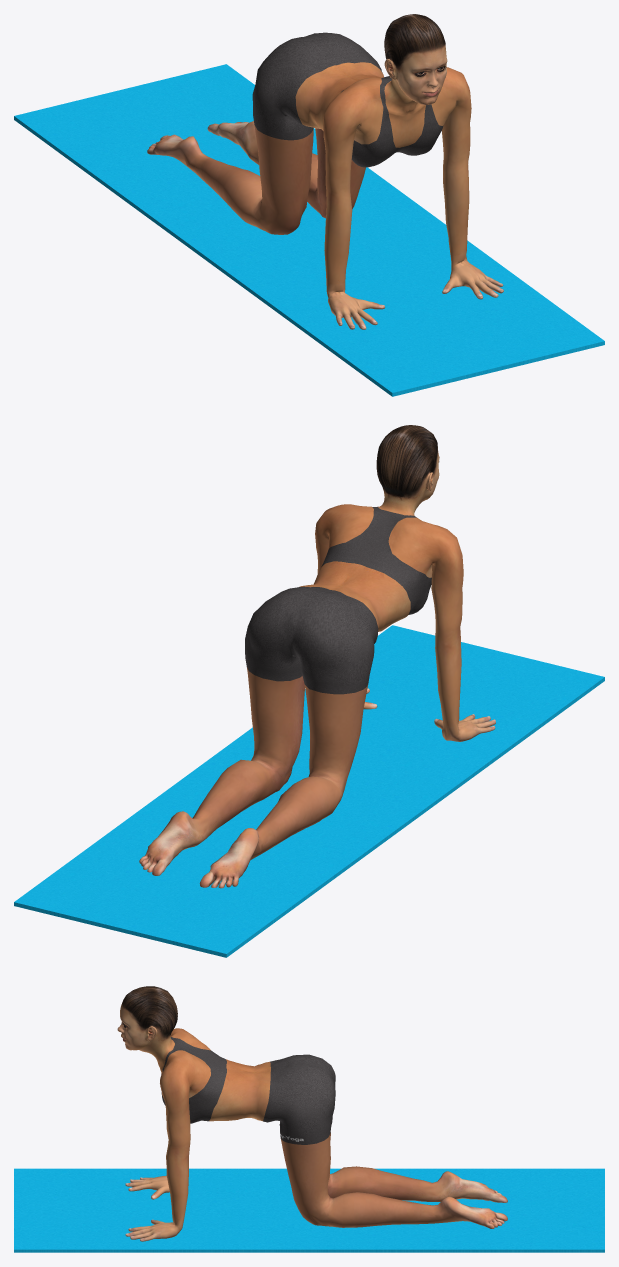
Rendered from bitilasana.glb.
3 views of the same model, one above another, from view 1: azimuth 30°, elevation 25°; view 2: azimuth 150°, elevation 25°; view 3: azimuth 270°, elevation 25° (orthographic). The views are drawn at different scales.
Visible parts, largest first — view 1: Mat-one-piece_jpg-material, Lily_Texture01_06_2016_jpg-material; view 2: Mat-one-piece_jpg-material, Lily_Texture01_06_2016_jpg-material; view 3: Mat-one-piece_jpg-material, Lily_Texture01_06_2016_jpg-material.
Part boxes in pixels (x1,y1,x2,y2): Mat-one-piece_jpg-material: [14, 64, 604, 396]; Lily_Texture01_06_2016_jpg-material: [147, 14, 503, 329]; Mat-one-piece_jpg-material: [14, 625, 604, 957]; Lily_Texture01_06_2016_jpg-material: [139, 425, 495, 888]; Mat-one-piece_jpg-material: [14, 1168, 604, 1252]; Lily_Texture01_06_2016_jpg-material: [117, 986, 507, 1241].
Size of the model in its own units: 2 by 2.59 by 6.17.
Materials: 3 (2 with a texture image).
